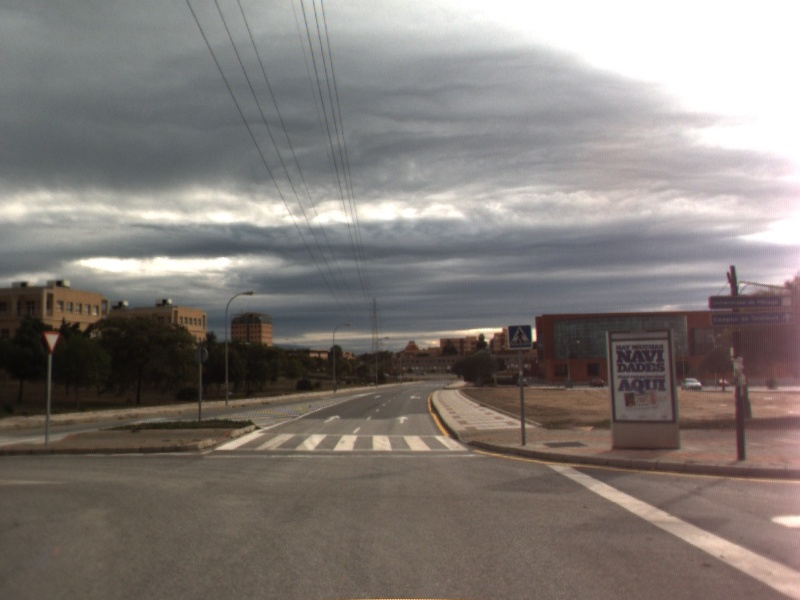STRAIGHT: (322, 413, 342, 425), (394, 414, 411, 426)
